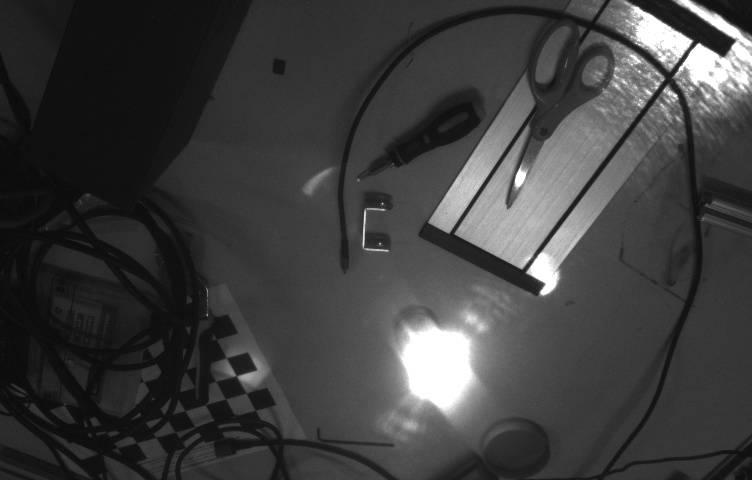Object toy football - Material foam - Color blue - Pdfname VT1ffZoLOnKv: (391, 311, 467, 384)
